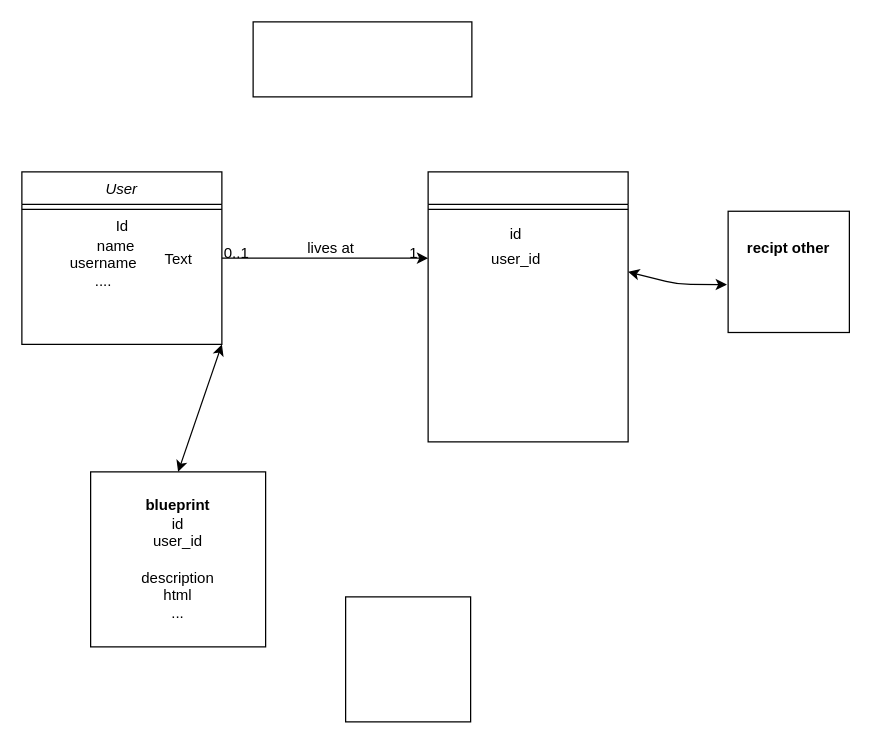
Image size: 871x744. Some labels were removed from this diagram. Each missing label, with the box of its shape:
list recipt: (252, 21, 472, 97)
list recipt User: (427, 171, 628, 442)
